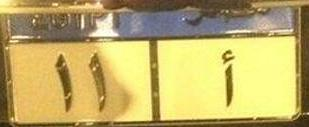1: (52, 51, 75, 114), (86, 52, 109, 111)
alif: (217, 45, 237, 108)
